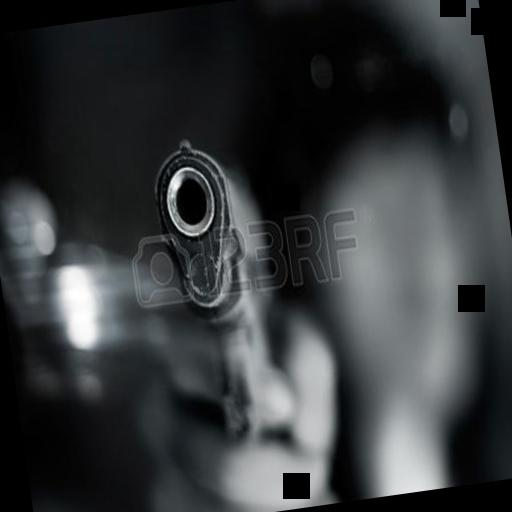Handgun: (140, 126, 282, 451)
